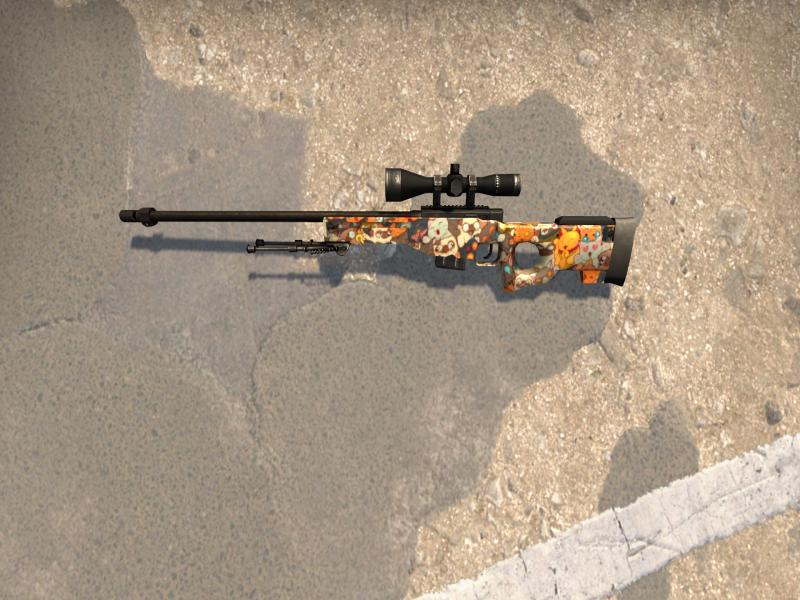AWP: (119, 162, 638, 291)
